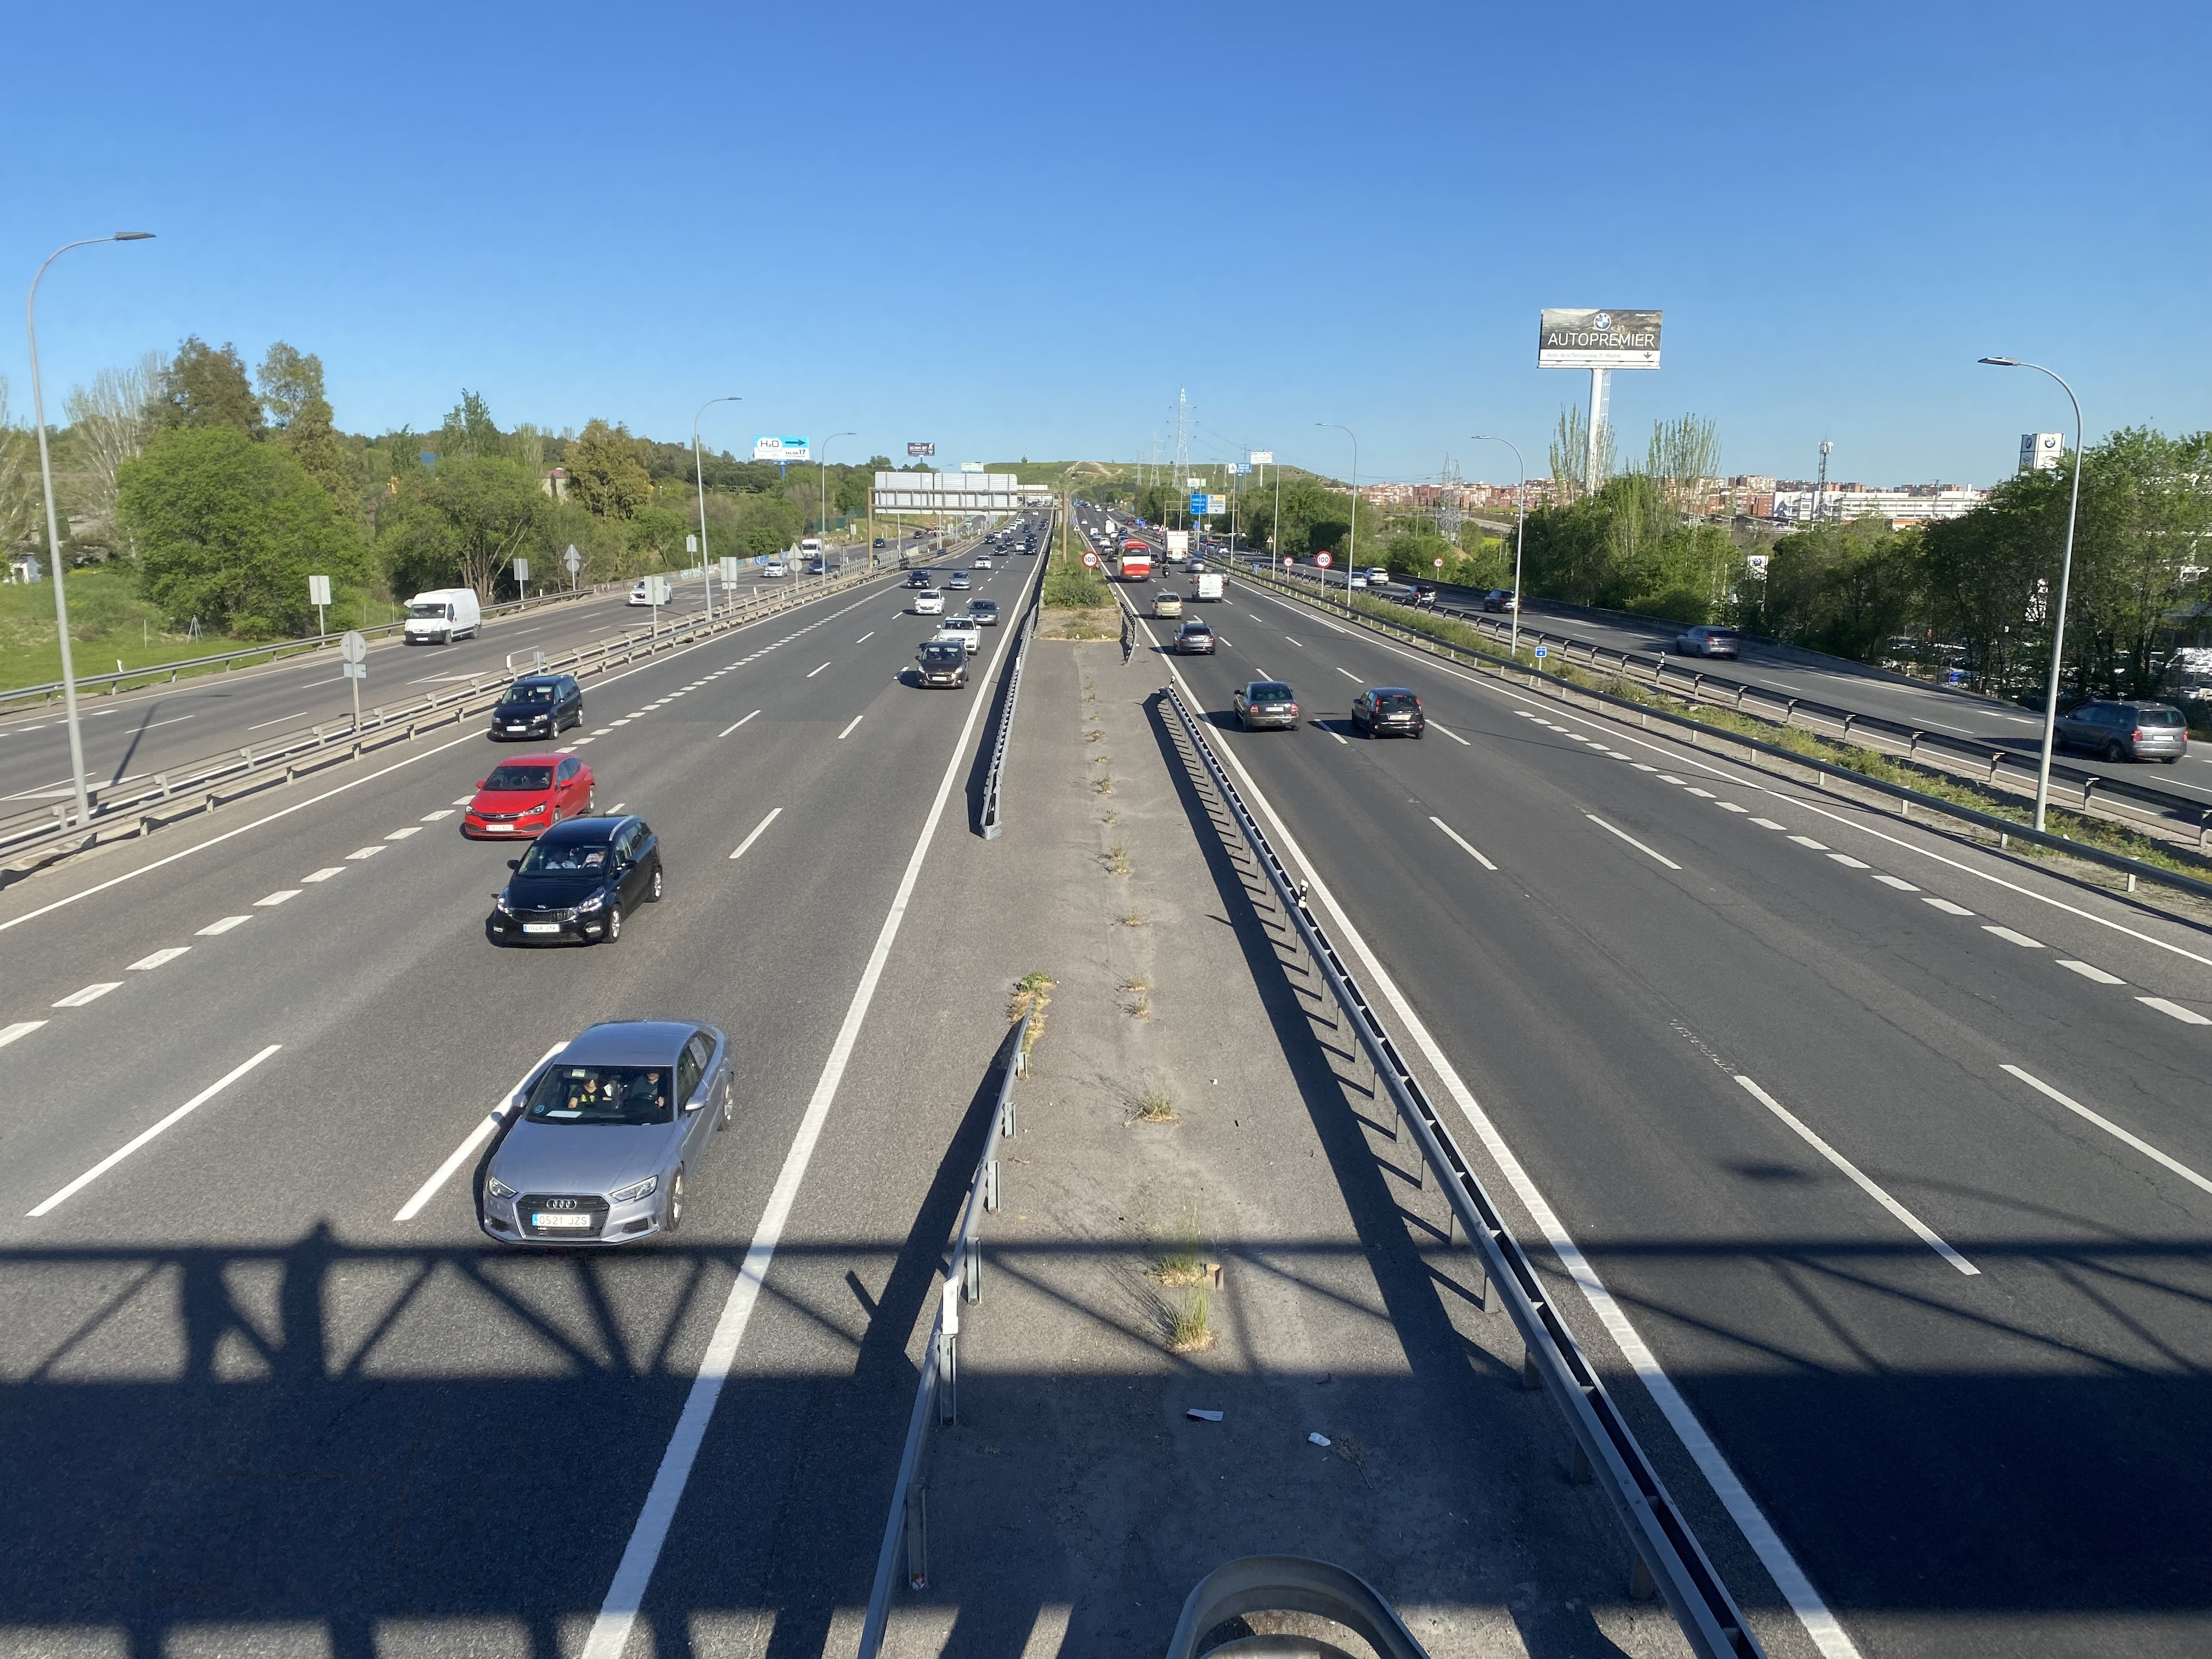cars: (475, 1021, 733, 1244), (486, 814, 662, 945), (462, 753, 594, 836), (2055, 701, 2188, 763), (489, 674, 583, 741), (1352, 687, 1425, 737), (1233, 680, 1299, 728), (916, 640, 968, 687), (1672, 626, 1738, 659), (935, 615, 981, 655), (1172, 617, 1216, 655), (967, 598, 1000, 626), (913, 587, 944, 615), (1118, 554, 1151, 580), (1153, 591, 1183, 619), (1482, 589, 1514, 613), (904, 568, 932, 589), (1409, 587, 1437, 606), (763, 558, 789, 577), (948, 570, 972, 589), (1366, 568, 1390, 587), (803, 554, 826, 573), (1184, 558, 1207, 573), (1082, 549, 1099, 568), (972, 558, 995, 572)
